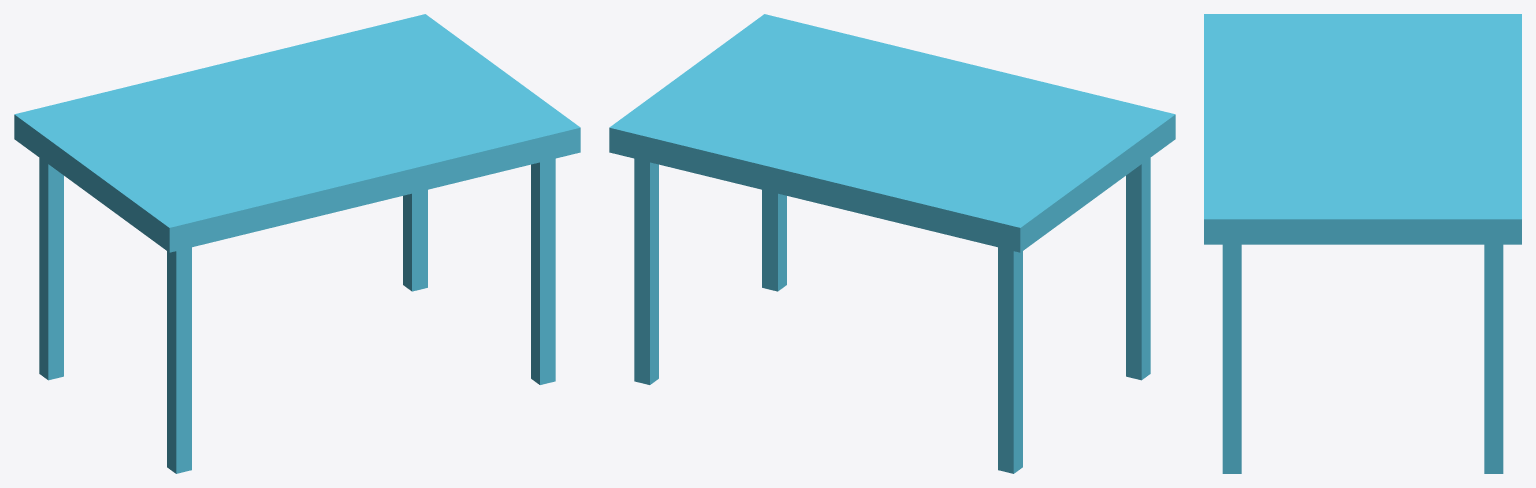
File: historical-object.glb
3 renders of one model, left to right at view 1: azimuth 30°, elevation 25°; view 2: azimuth 150°, elevation 25°; view 3: azimuth 270°, elevation 25°, orthographic. The views are drawn at different scales.
Parts seen in each view (by area): view 1: Illustrative transition frame; view 2: Illustrative transition frame; view 3: Illustrative transition frame.
Part boxes in pixels (x1,y1,x2,y2): Illustrative transition frame: (14,14,580,473); Illustrative transition frame: (609,14,1175,473); Illustrative transition frame: (1204,14,1521,473).
Size of the model in its own units: 5.2 by 3.1 by 3.4.
